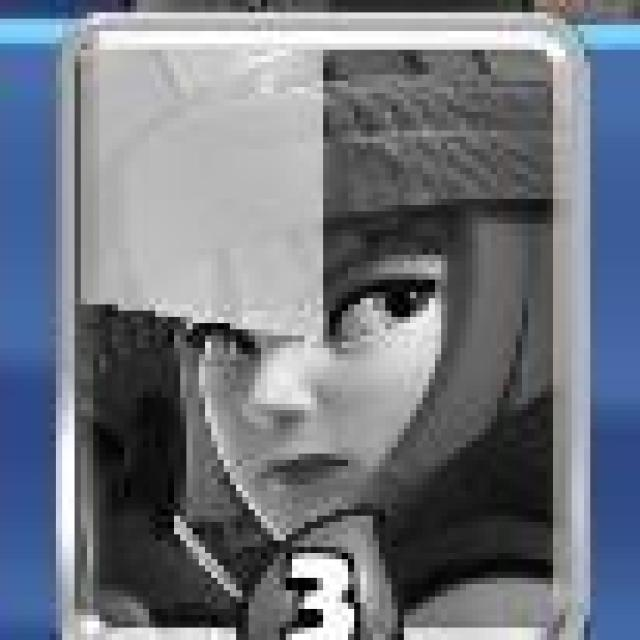Firecracker: (59, 21, 586, 639)
